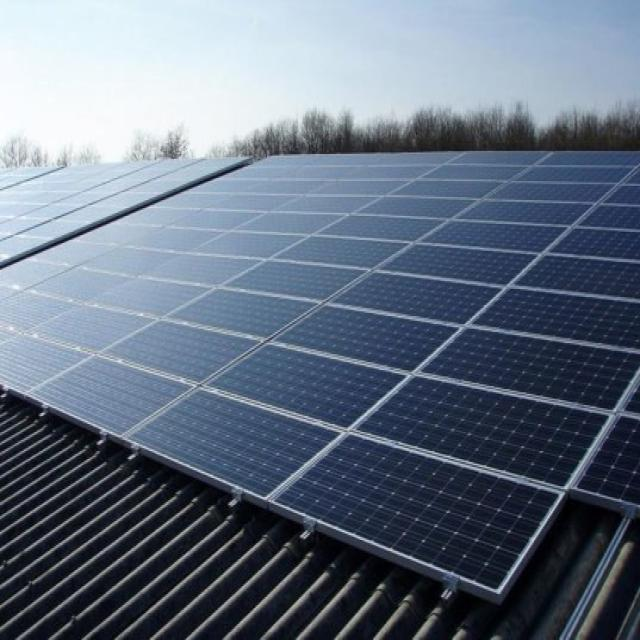clean-solar-panel: (0, 153, 640, 594)
